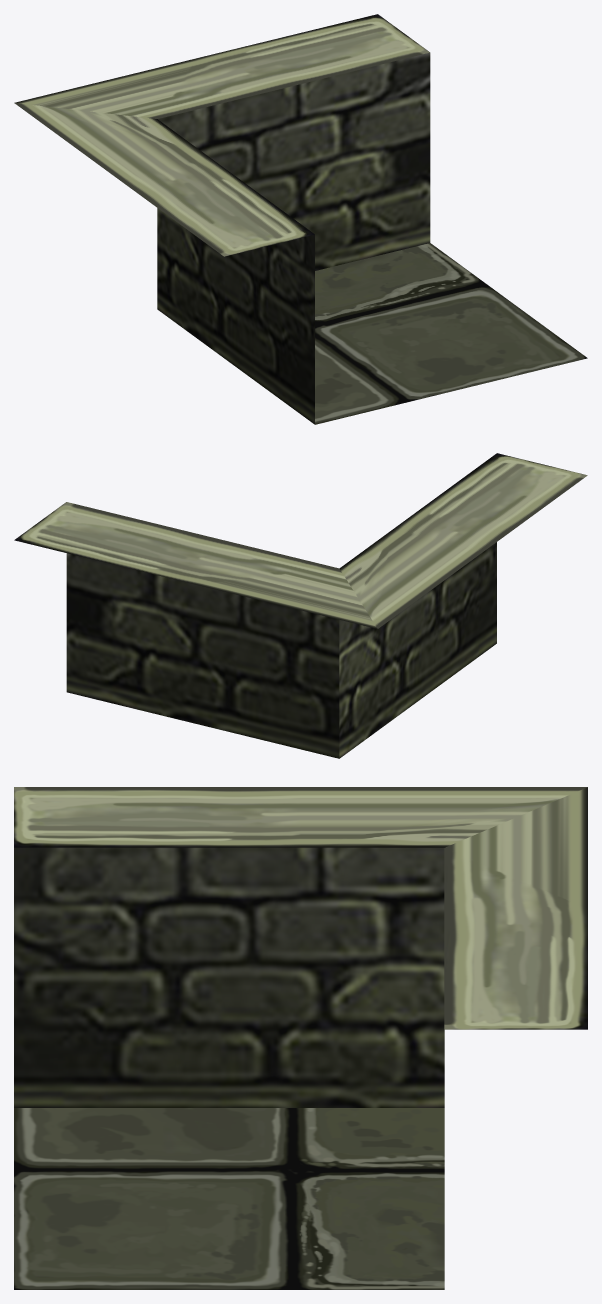
File: corner.fbx
3 renders of one model, top to bottom at view 1: azimuth 30°, elevation 25°; view 2: azimuth 150°, elevation 25°; view 3: azimuth 270°, elevation 25°, orthographic. The views are drawn at different scales.
Parts seen in each view (by area): view 1: corner_geo; view 2: corner_geo; view 3: corner_geo.
Boxes of the visible parts, bbox=[...] form: corner_geo: bbox=[14, 14, 587, 424]; corner_geo: bbox=[14, 453, 587, 758]; corner_geo: bbox=[14, 787, 587, 1289].
Bounding box in the file's own units: 1 × 0.5 × 1.
1 material, 1 textured.
